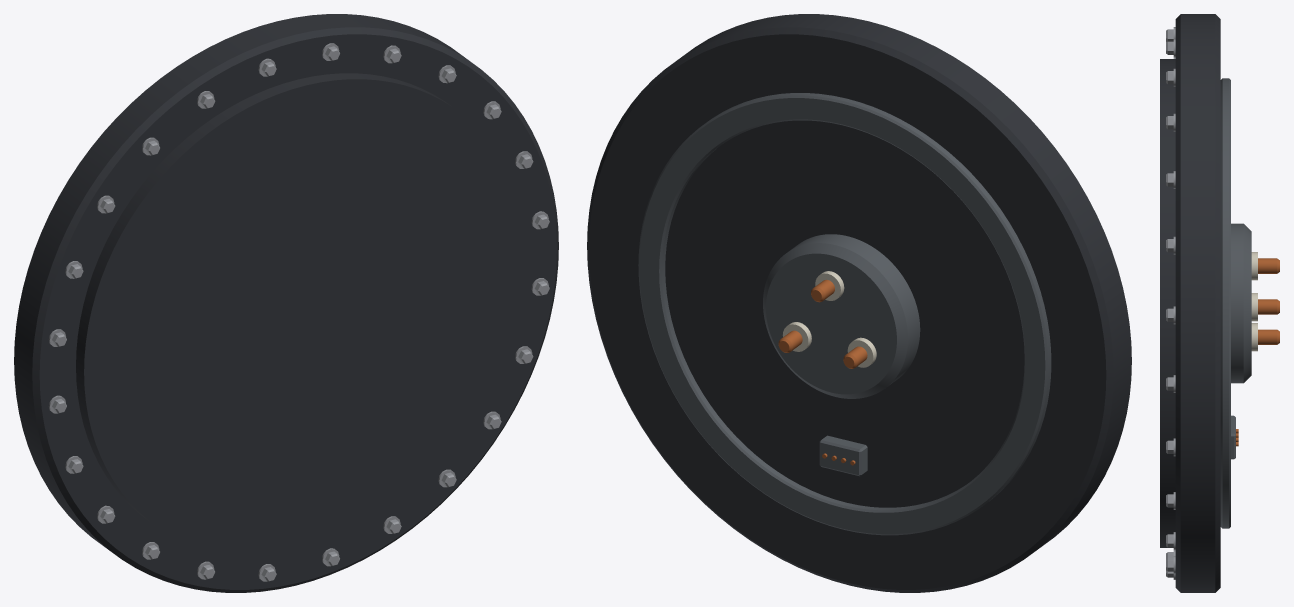
File: cr1_flange.obj
3 renders of one model, left to right at view 1: azimuth 30°, elevation 25°; view 2: azimuth 150°, elevation 25°; view 3: azimuth 270°, elevation 25°, orthographic. The views are drawn at different scales.
Parts seen in each view (by area): view 1: cr1_flange; view 2: cr1_flange; view 3: cr1_flange.
Part boxes in pixels (x1=…): cr1_flange: x1=14, y1=14, x2=558, y2=592; cr1_flange: x1=587, y1=14, x2=1131, y2=592; cr1_flange: x1=1160, y1=14, x2=1279, y2=592.
Bounding box in the file's own units: 4.5 × 4.5 × 0.93.
